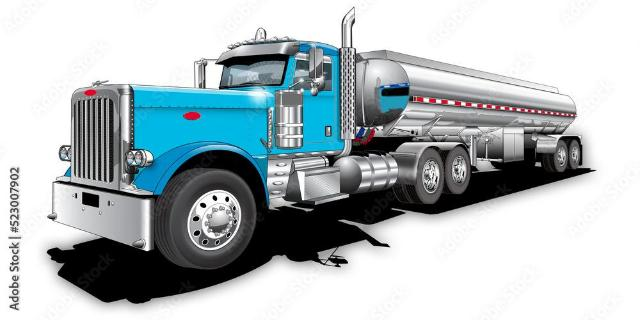truck: (42, 22, 598, 271)
